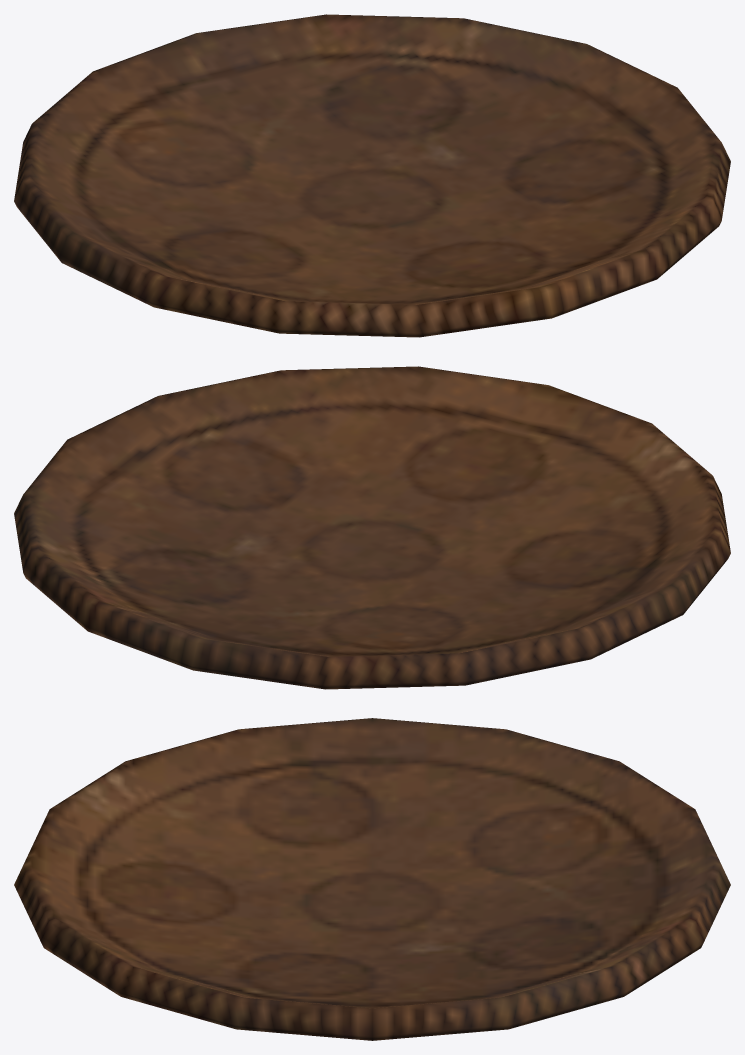
The model's file is charcoalCooker02.FBX.
3 views of the same model, one above another, from view 1: azimuth 30°, elevation 25°; view 2: azimuth 150°, elevation 25°; view 3: azimuth 270°, elevation 25° (orthographic).
Visible parts, largest first — view 1: SM_CharcoalCooker02; view 2: SM_CharcoalCooker02; view 3: SM_CharcoalCooker02.
Part boxes in pixels (bbox=[...]): SM_CharcoalCooker02: bbox=[14, 14, 730, 337]; SM_CharcoalCooker02: bbox=[14, 366, 730, 689]; SM_CharcoalCooker02: bbox=[14, 718, 730, 1040].
Size of the model in its own units: 36.58 by 3.72 by 36.58.
Materials: 1 (1 with a texture image).
